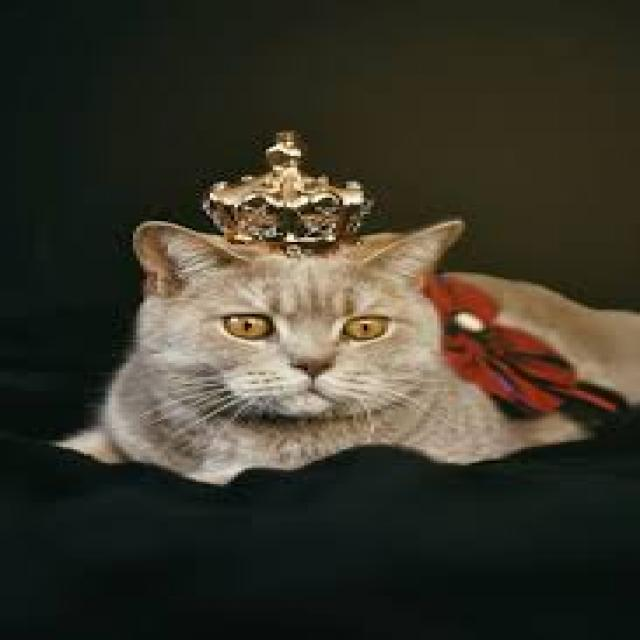Cat: (47, 214, 640, 497)
